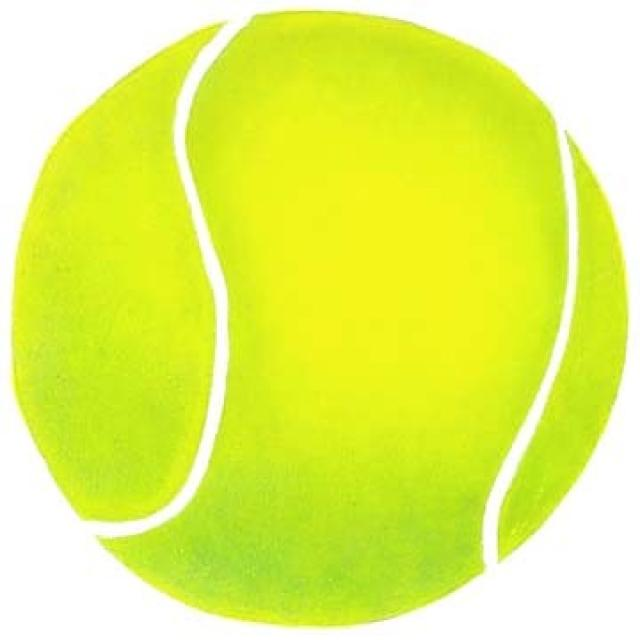Tennis Ball: (7, 7, 629, 633)
